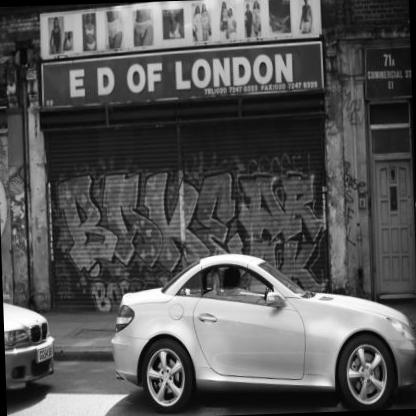car: (100, 241, 416, 416), (4, 283, 70, 413)
